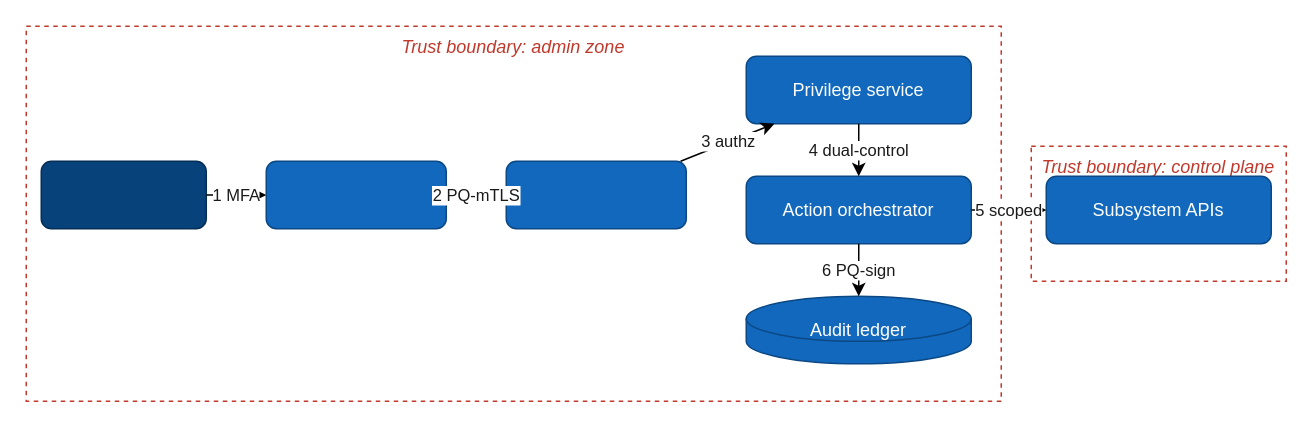
This 1313x428 diagram has some shape labels left out. The box of each missing label's shape, as (x1, y1, x2, y2) in pixels:
Admin: (40, 160, 206, 229)
Admin BFF: (505, 160, 686, 229)
Admin UI: (265, 160, 446, 229)
